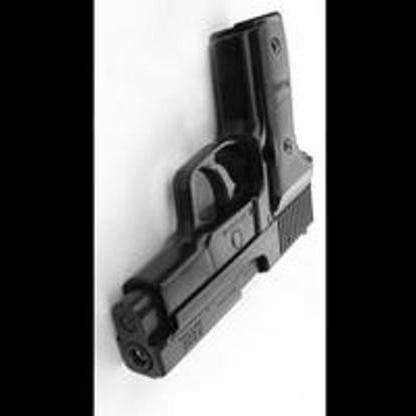weapon: (110, 8, 314, 377)
